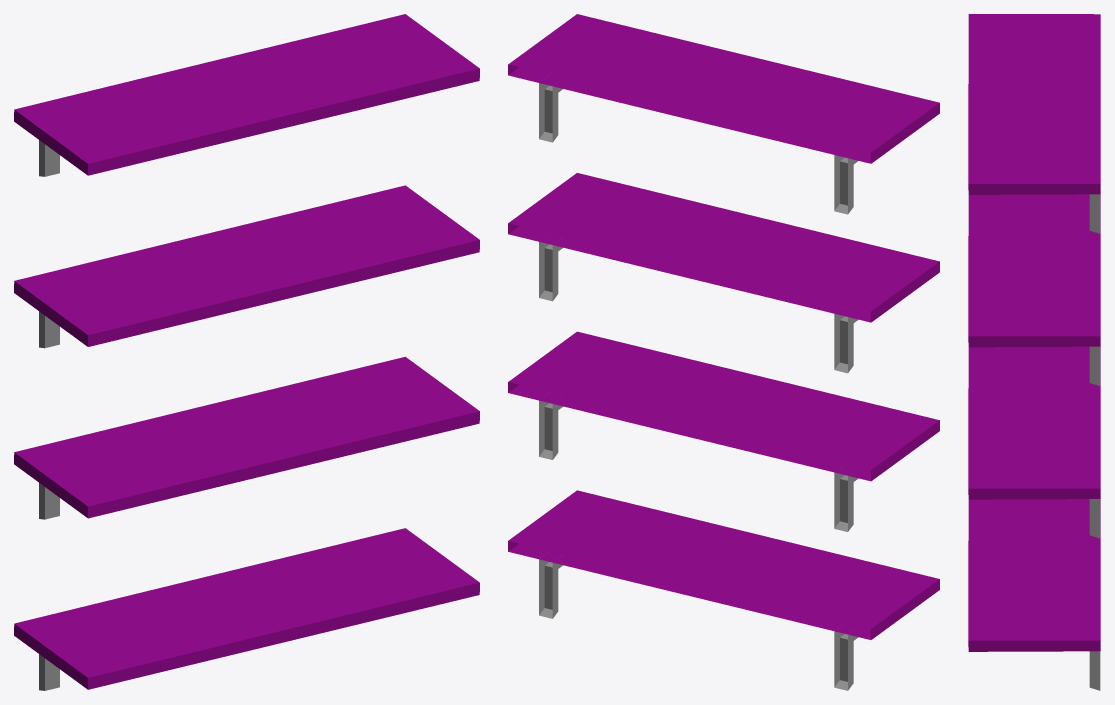
The model's file is Shelves.fbx.
3 views of the same model, side by side, from view 1: azimuth 30°, elevation 25°; view 2: azimuth 150°, elevation 25°; view 3: azimuth 270°, elevation 25° (orthographic). The views are drawn at different scales.
Parts seen in each view (by area): view 1: ShelvesFBX; view 2: ShelvesFBX; view 3: ShelvesFBX.
Boxes of the visible parts, <box> form: ShelvesFBX: <box>14,14,479,690</box>; ShelvesFBX: <box>508,14,939,690</box>; ShelvesFBX: <box>968,14,1100,690</box>.
Size of the model in its own units: 39.55 by 56.62 by 13.03.
